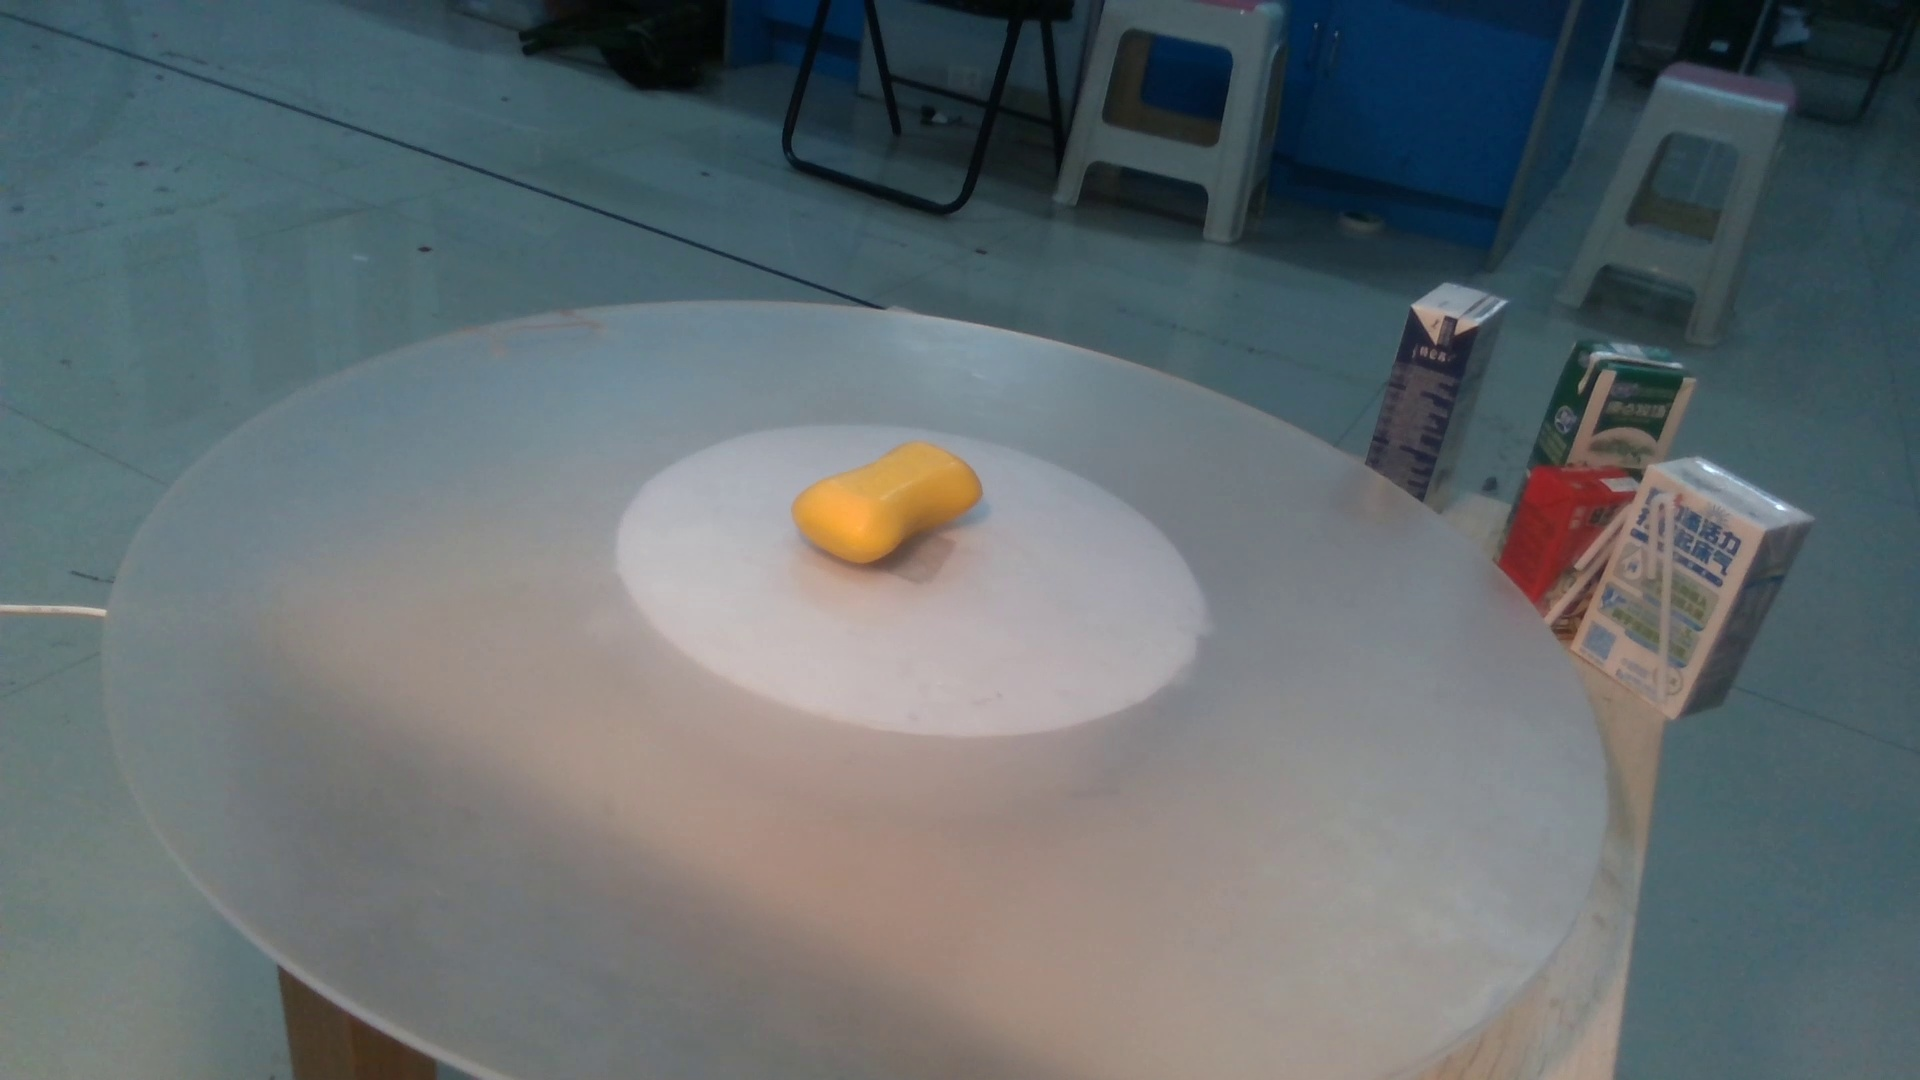CA003_1: (778, 427, 1002, 599)
